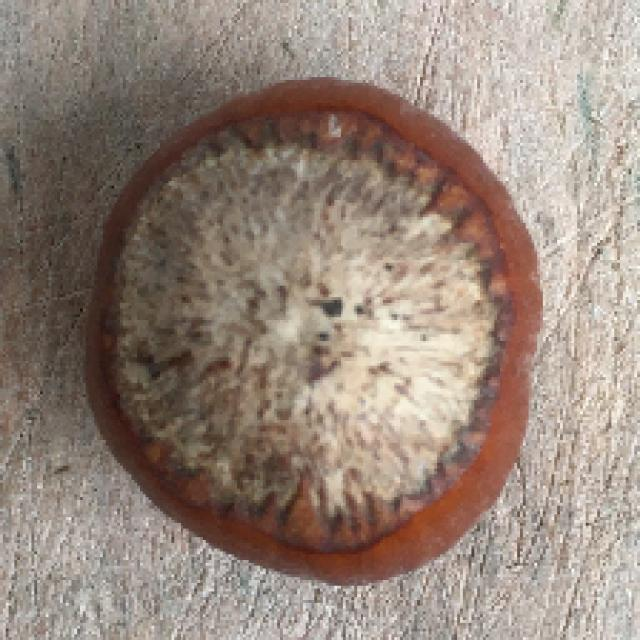qualityHazelnut: (68, 67, 544, 586)
